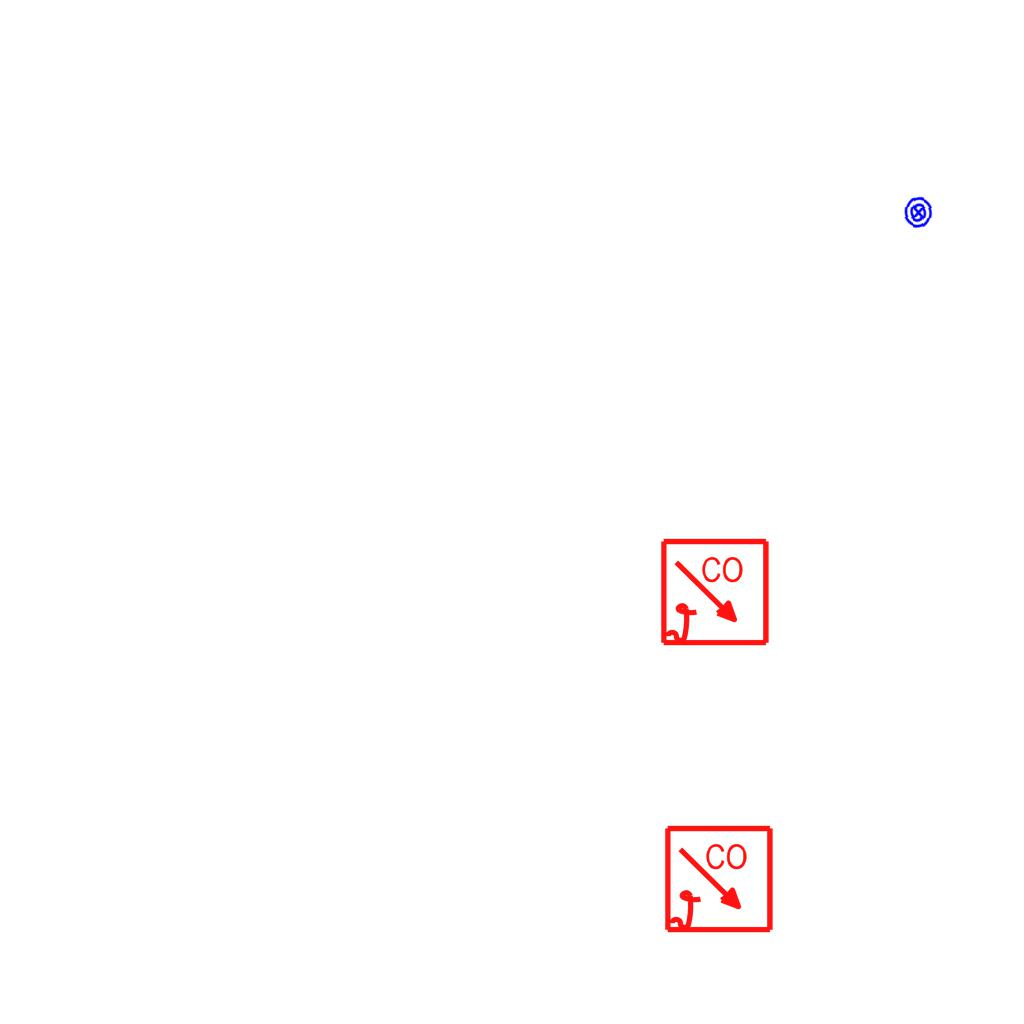ROA_Rauchmelder_optisch_mit_Signalgeber_(Sockelsirene): (659, 537, 772, 650), (663, 824, 776, 937)
Taster_beleuchtet: (900, 194, 937, 231)
